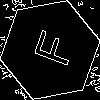F: (25, 25, 76, 69)
